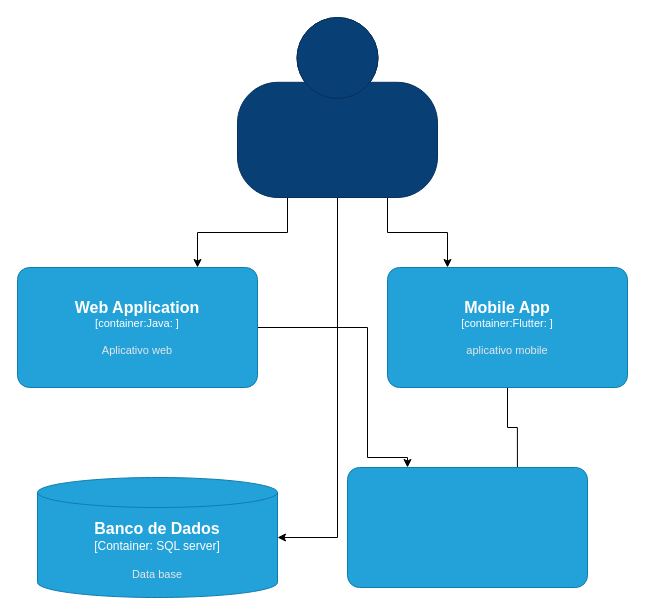
Image size: 645x615. Some labels were removed from this diagram. Here are the shapes that lost their labels. From the top down, the box of each, then its label:
(236, 16, 438, 198): NABrasa [] Sistema de gerenciamento de serviços
(346, 466, 588, 588): API Application [container: API: ] API Application
